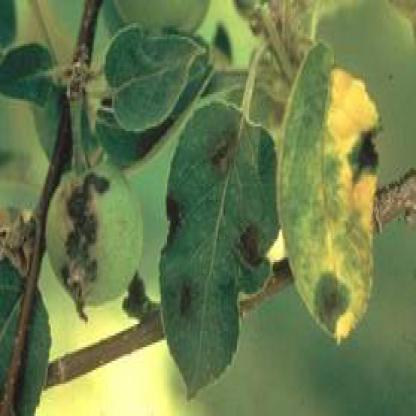Apple Scab Leaf: (154, 90, 281, 414), (274, 30, 388, 361)
